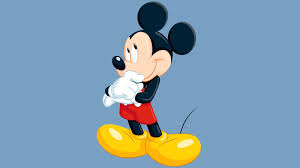mickey: (97, 1, 202, 167)
